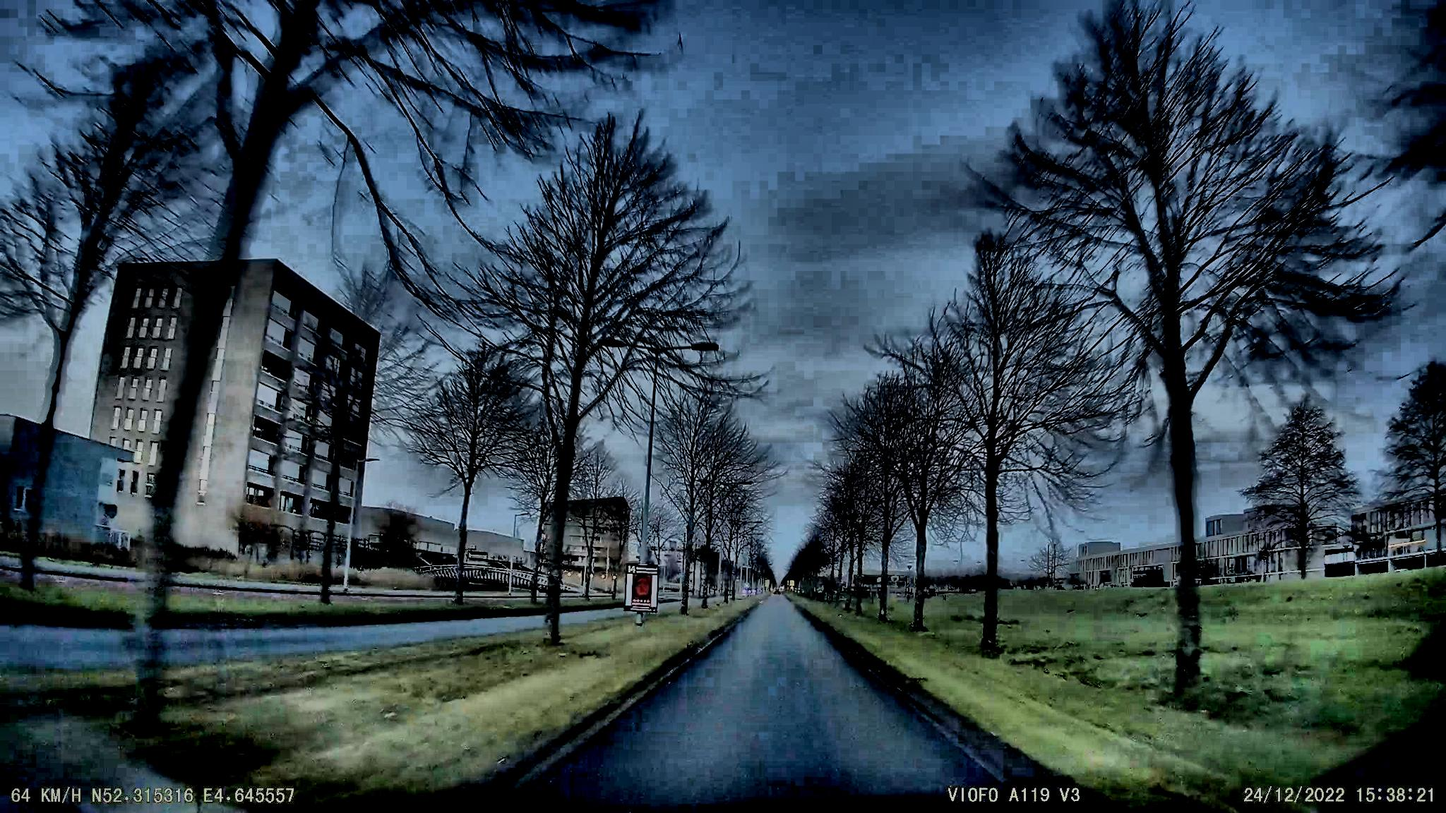Roads: (525, 606, 1055, 813)
